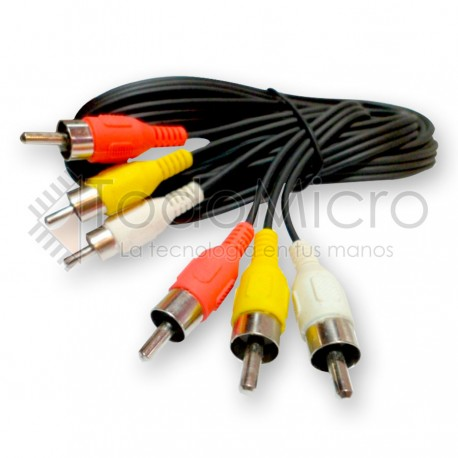Nonrec_Tangler: (18, 52, 435, 411)
